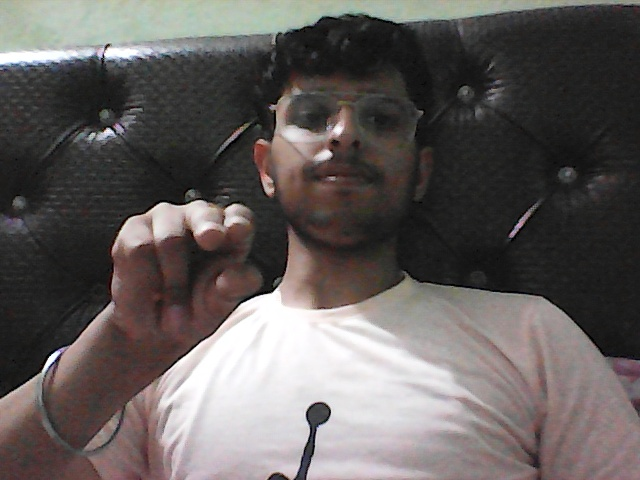no: (65, 185, 282, 366)
